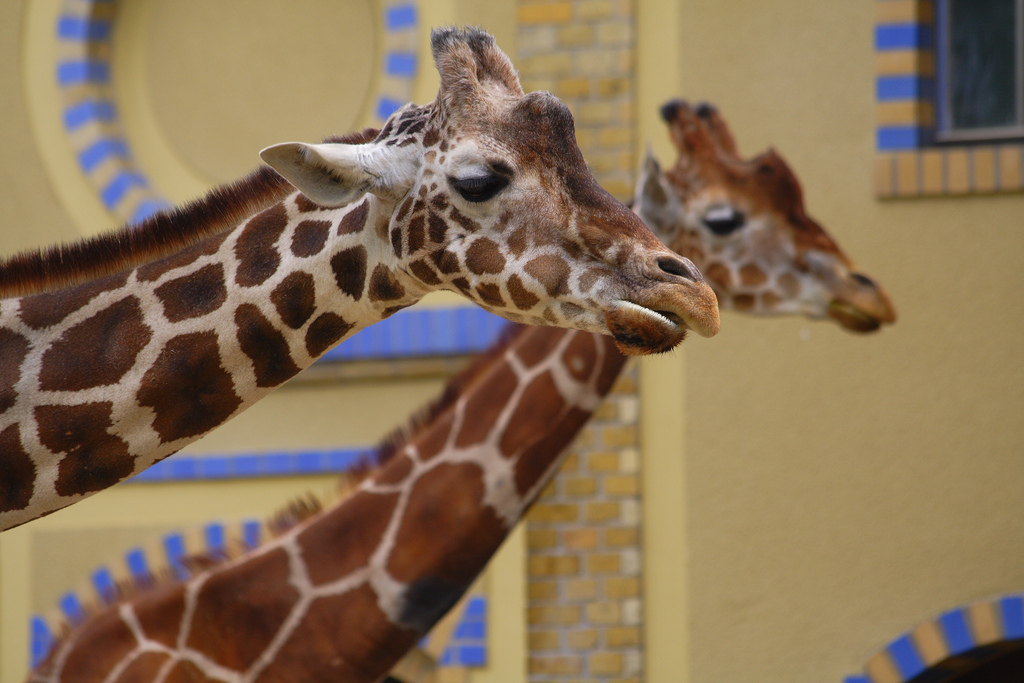giraffe: (194, 109, 918, 652), (30, 29, 673, 493)
